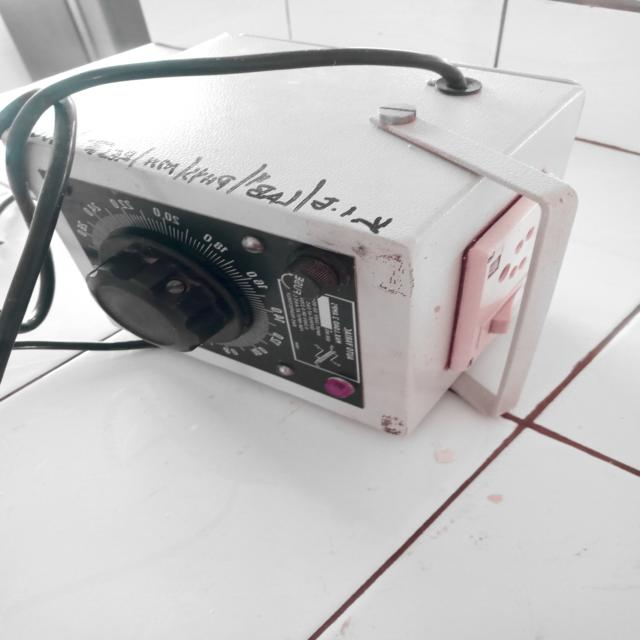Auto Variac AC Transformer 0-280 V: (13, 28, 584, 432)
